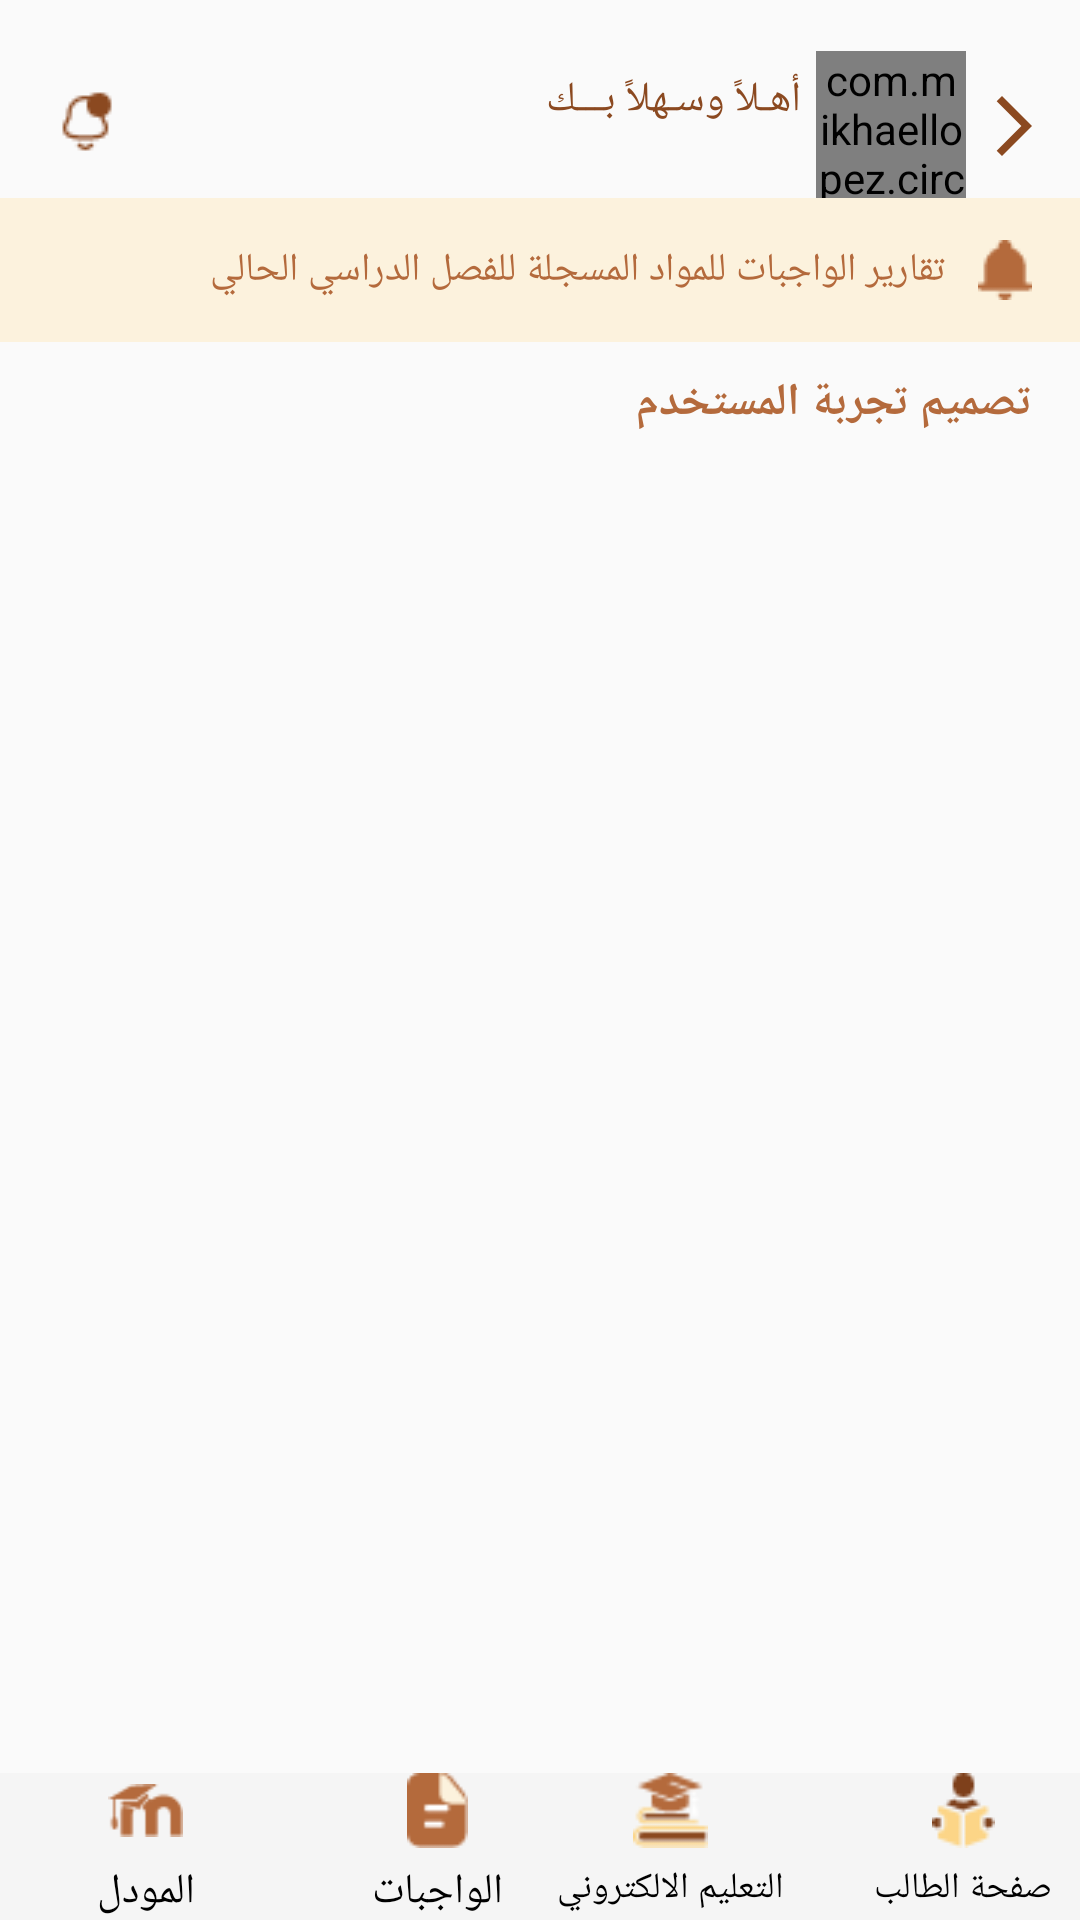

Icon click points for this 1080px×1920px phone screenshot, format (x,y):
arrow forward: (1014,126)
notifaction: (87,121)
